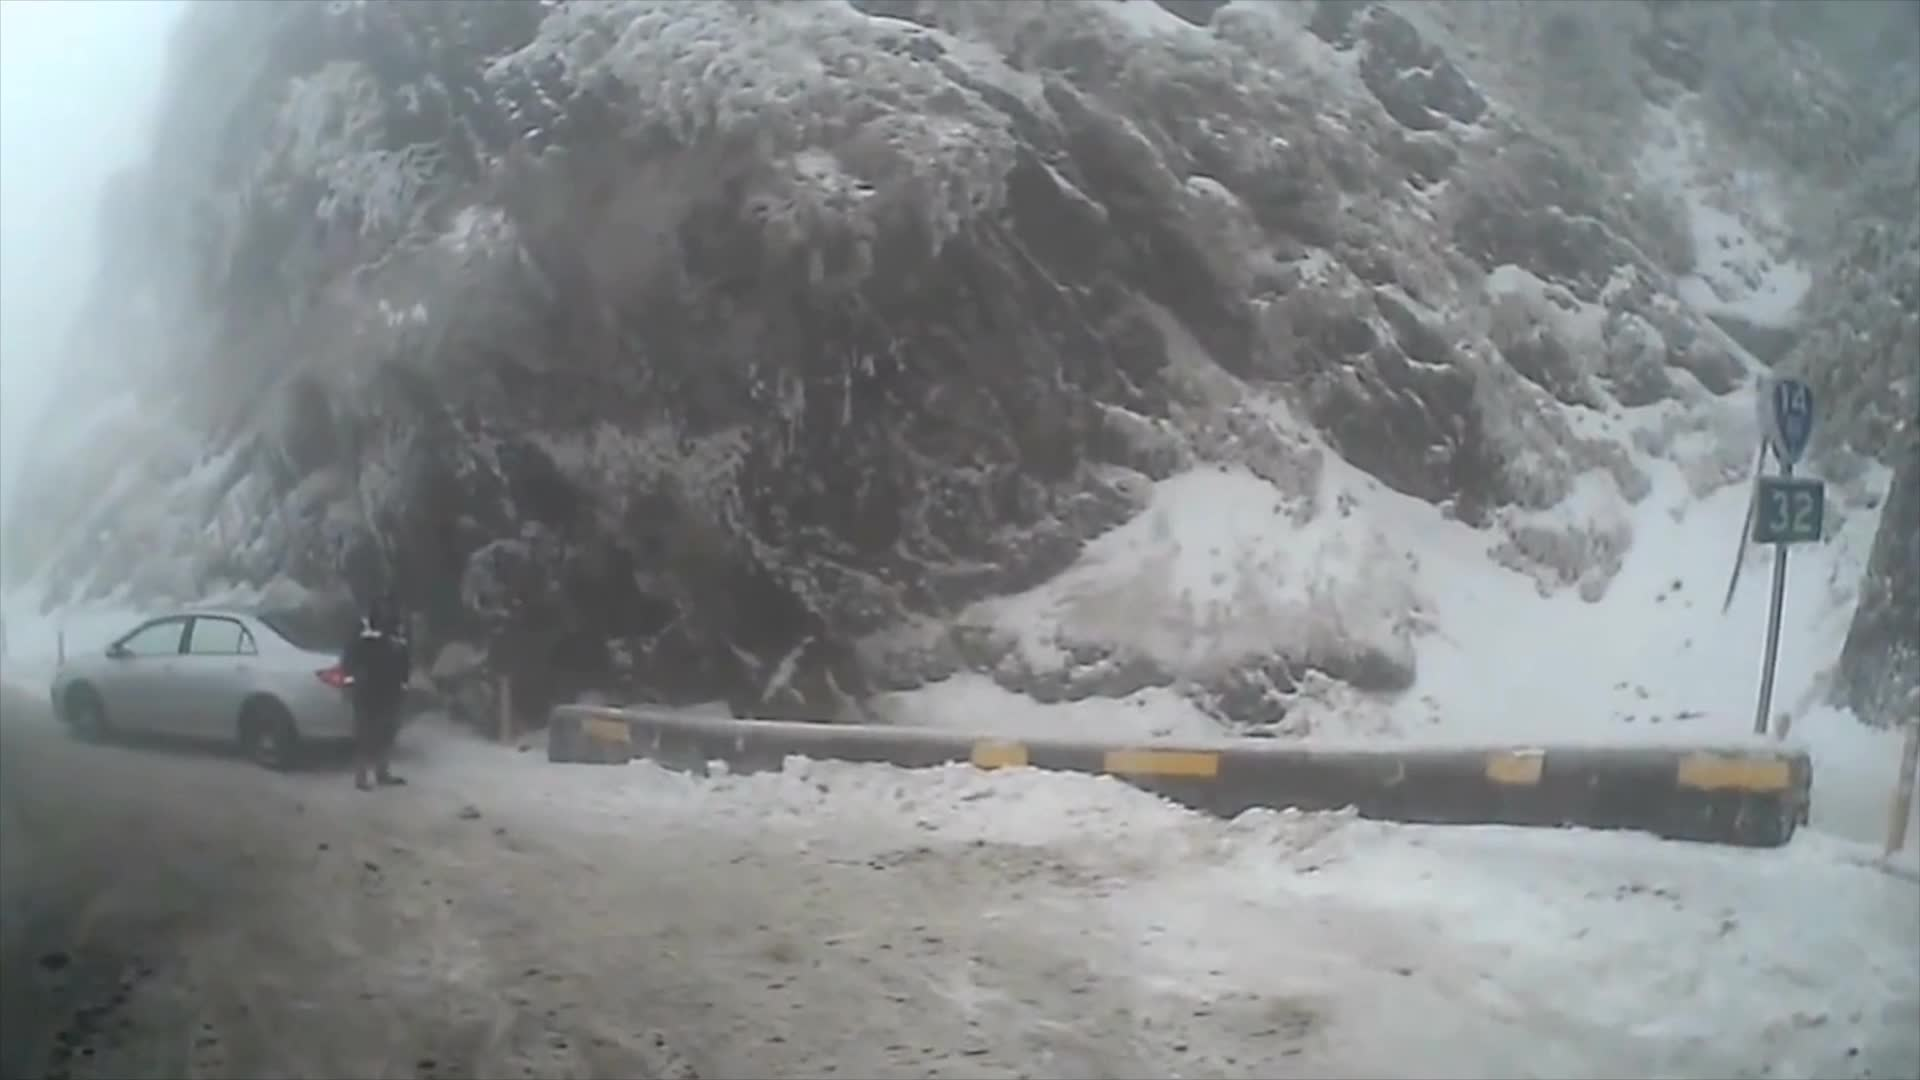pedestrian: (340, 582, 409, 785)
vehicle: (48, 601, 402, 772)
